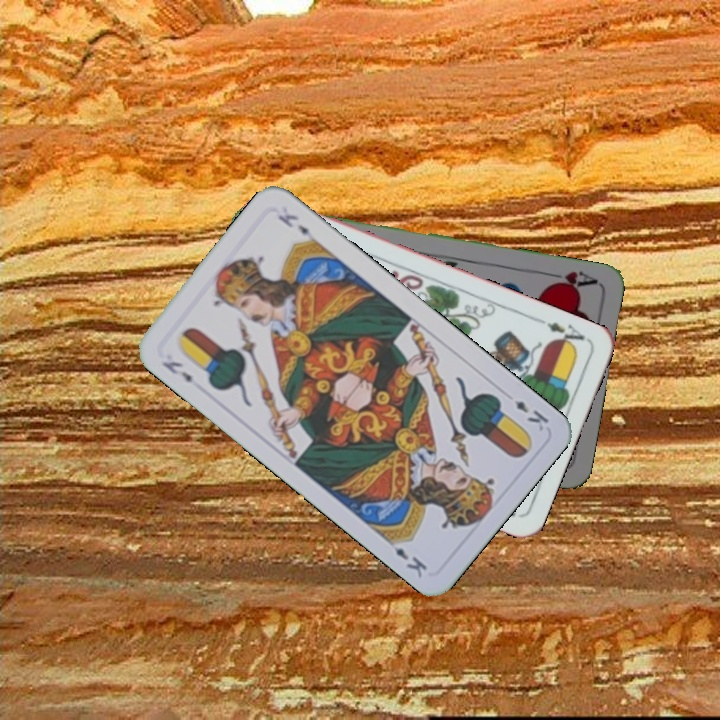EA: (533, 314, 590, 352)
EK: (510, 396, 552, 434), (157, 357, 195, 386)
HA: (540, 266, 599, 293)
